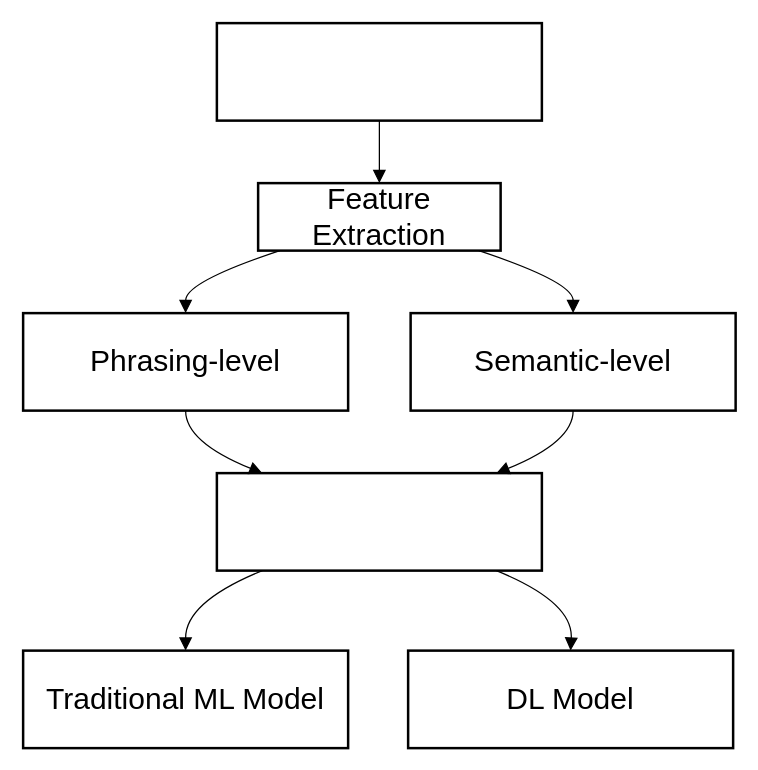
The diagram is 758 pixels wide and 770 high, and some of its shapes have lost their labels. The centre of each missing label's shape, as x and y in pixels:
"Data Collection & Preprocessing" goes at point (378, 71).
"Model Training & Comparison" goes at point (378, 521).
